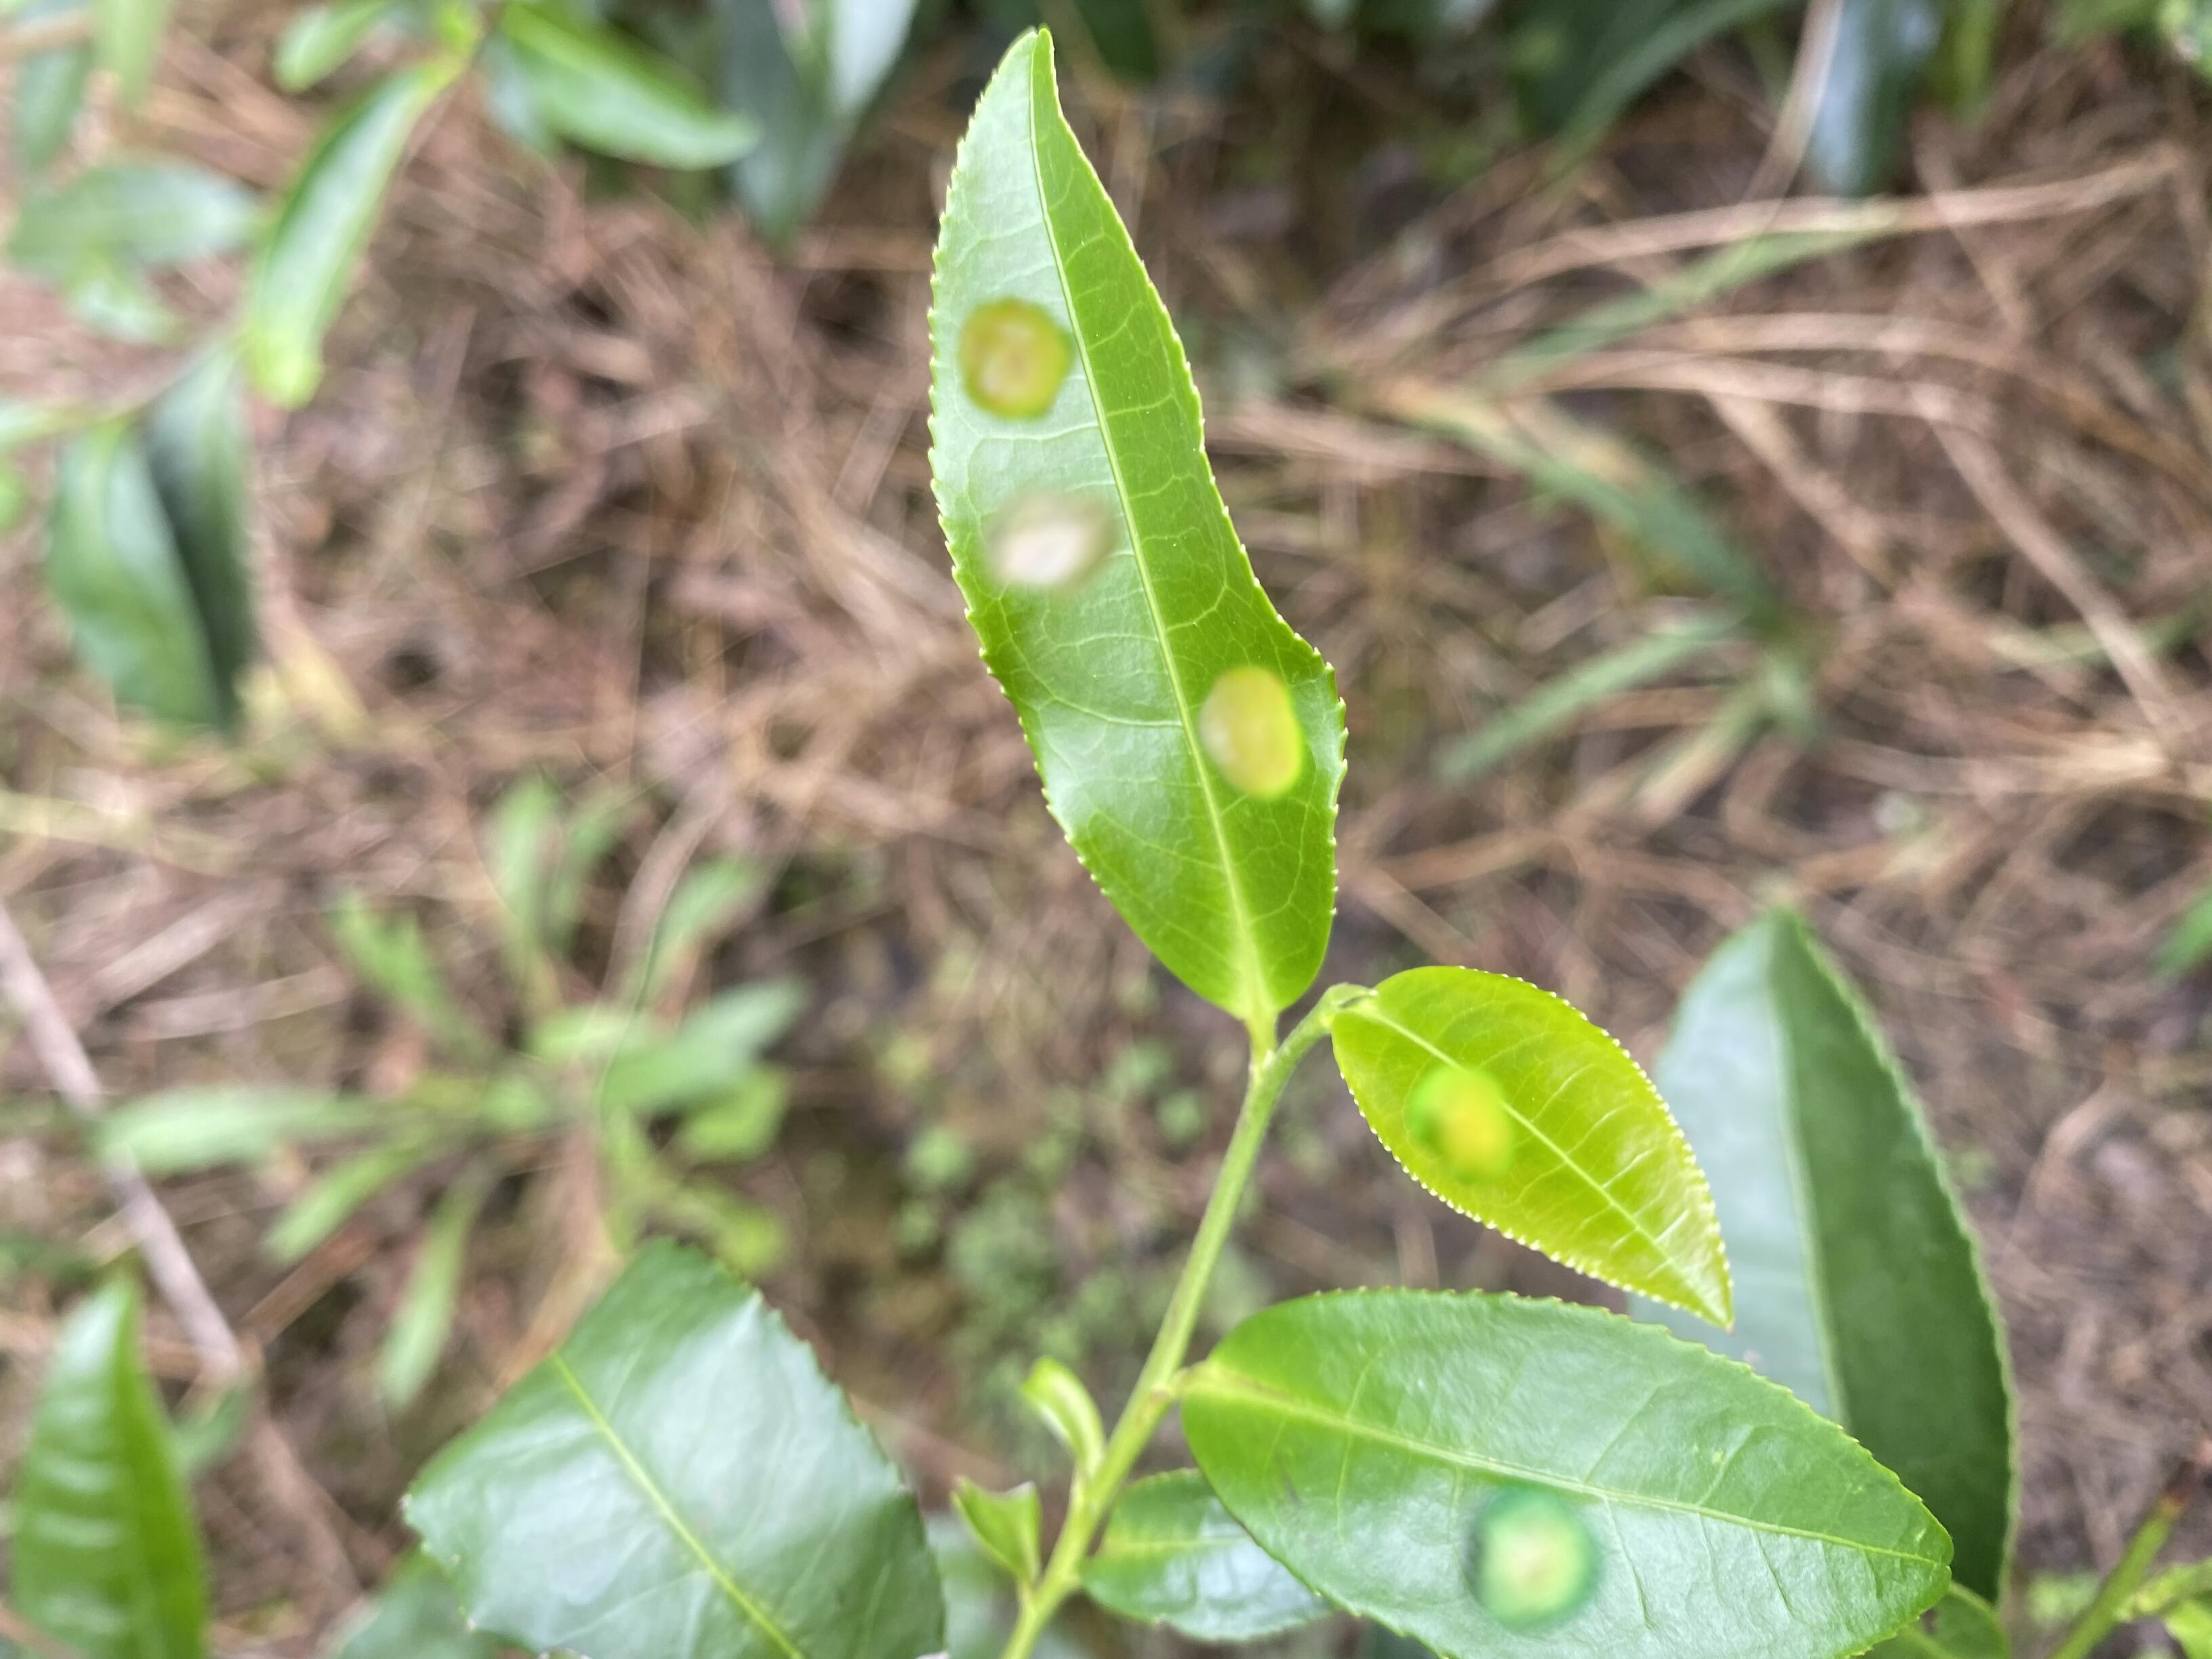chabing_high: (923, 28, 1348, 1021)
chabing_low: (1184, 1283, 1954, 1659), (1332, 964, 1737, 1333)
